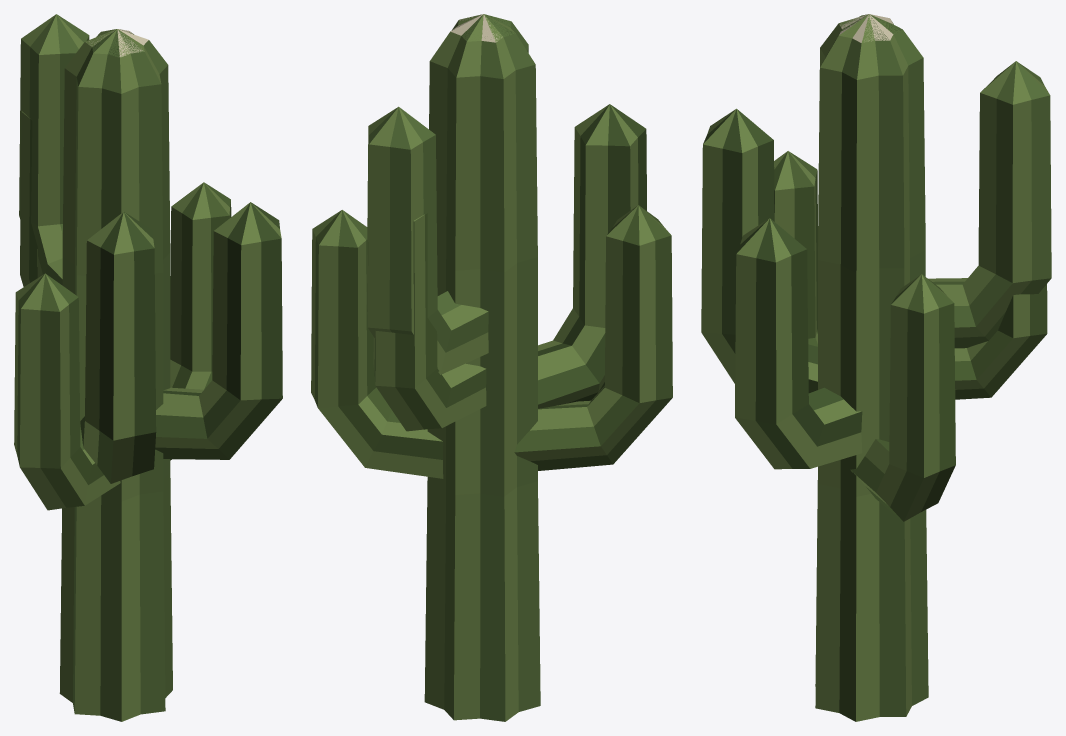
Rendered from saguaro.glb.
3 views of the same model, side by side, from view 1: azimuth 30°, elevation 25°; view 2: azimuth 150°, elevation 25°; view 3: azimuth 270°, elevation 25° (orthographic). The views are drawn at different scales.
Parts seen in each view (by area): view 1: saguaro_v0, saguaro_v2, saguaro_v1; view 2: saguaro_v0, saguaro_v1, saguaro_v2; view 3: saguaro_v0, saguaro_v2, saguaro_v1.
Part boxes in pixels (left/top/right/bottom): saguaro_v0: left=19, top=14, right=172, bottom=721; saguaro_v2: left=80, top=29, right=282, bottom=483; saguaro_v1: left=14, top=52, right=231, bottom=510; saguaro_v0: left=366, top=14, right=540, bottom=721; saguaro_v1: left=311, top=38, right=672, bottom=478; saguaro_v2: left=452, top=15, right=646, bottom=408; saguaro_v0: left=815, top=14, right=1051, bottom=721; saguaro_v2: left=701, top=14, right=902, bottom=469; saguaro_v1: left=774, top=33, right=1047, bottom=521.
Bounding box in the file's own units: 3.32 × 7.5 × 3.48.
